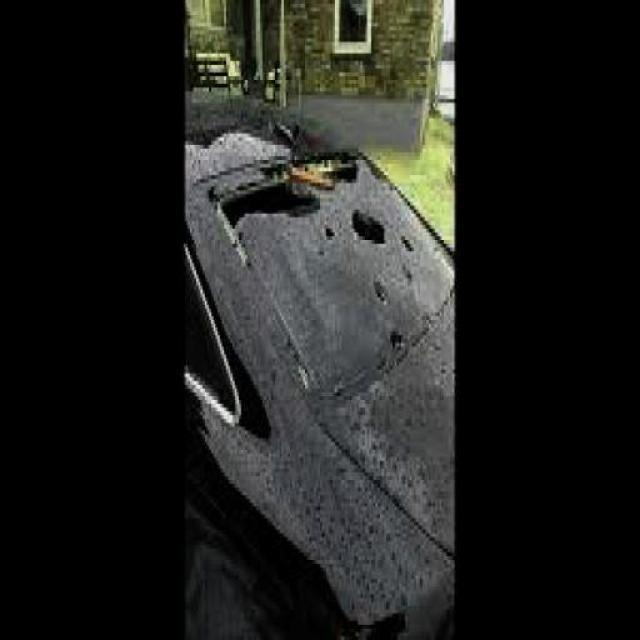car damage: (209, 151, 457, 417)
